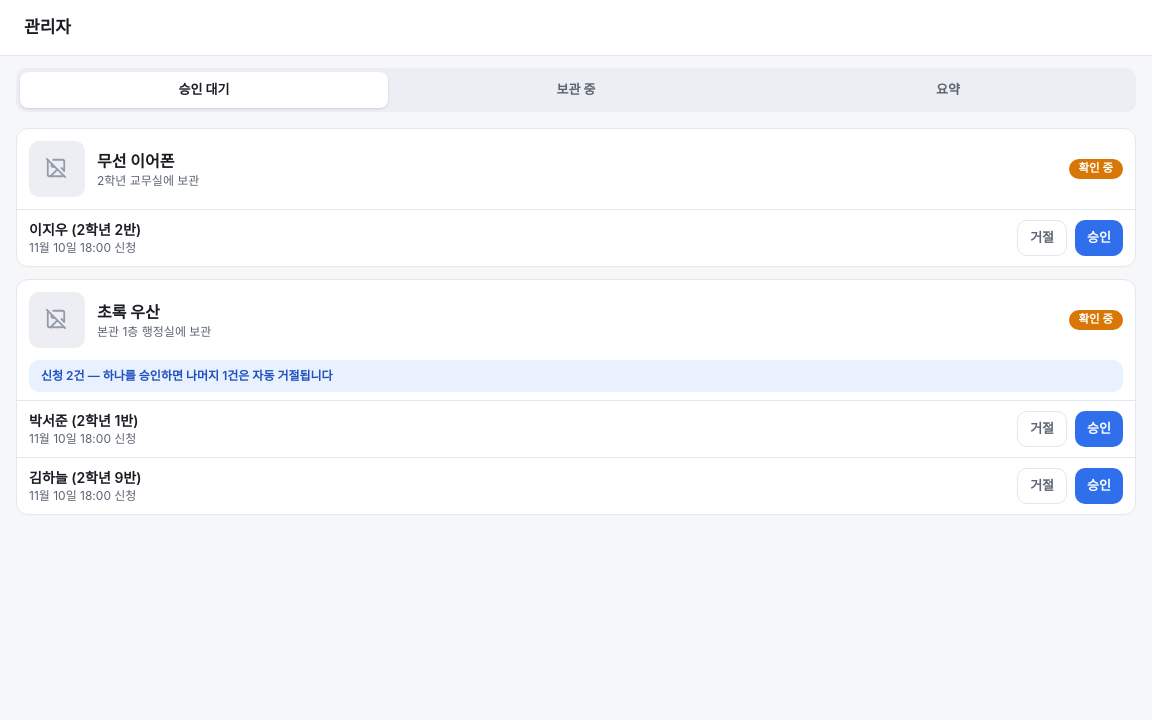
Test: AdminPage — 승인 대기 › 처리 실패(409)는 토스트로, 비어 있으면 안내
This screenshot has width=1152, height=720.
Click the button with aria-label "이지우 신청 승인" at x=1099, y=238, box [1075,220,1123,256]
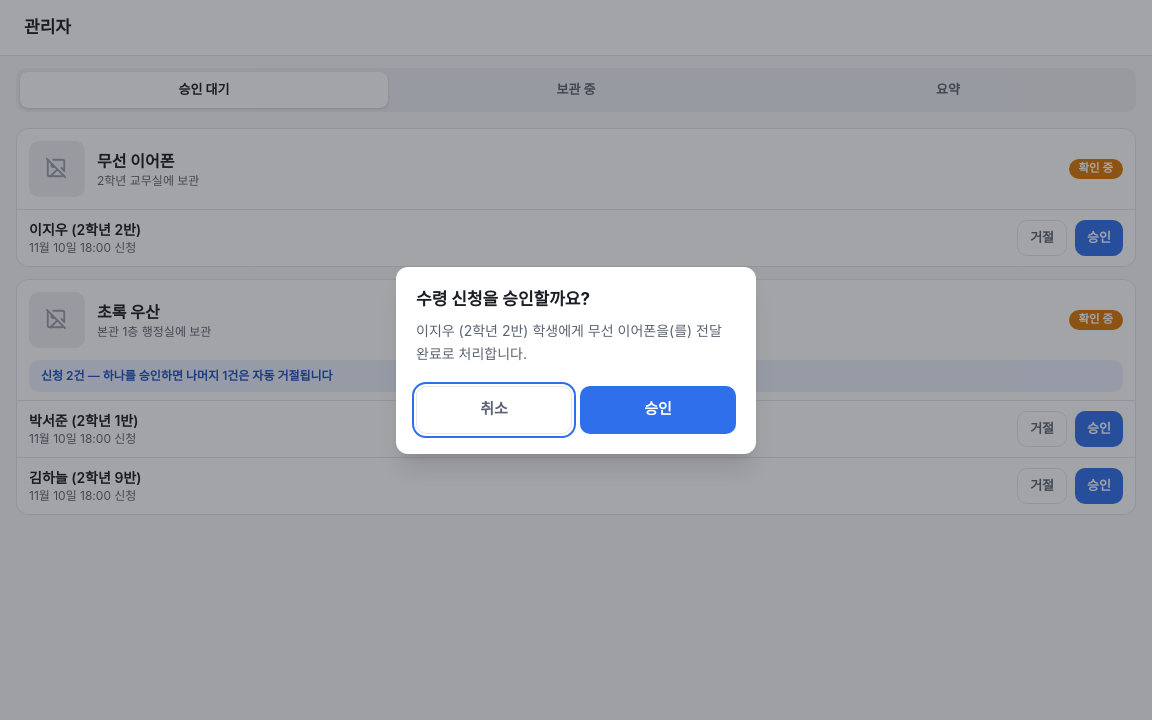
Click the button "승인" at x=658, y=410, box [580,386,736,434]
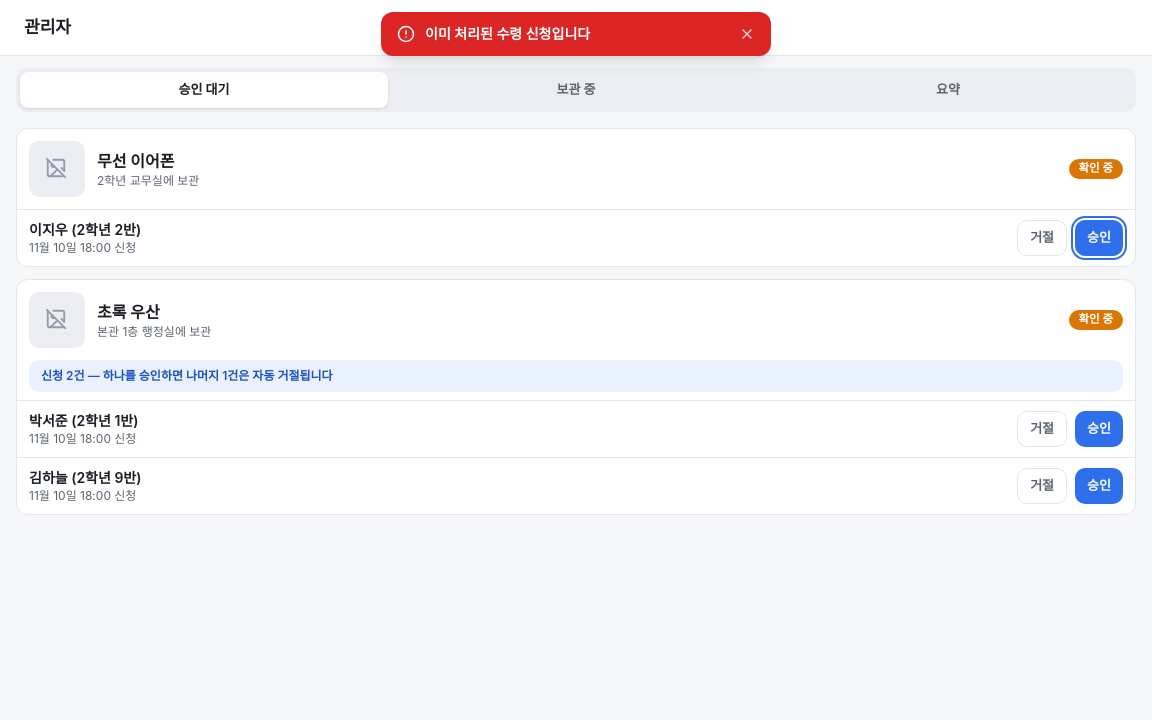
Expected: the message reads "이미 처리된 수령 신청입니다", [425,25,590,42]
